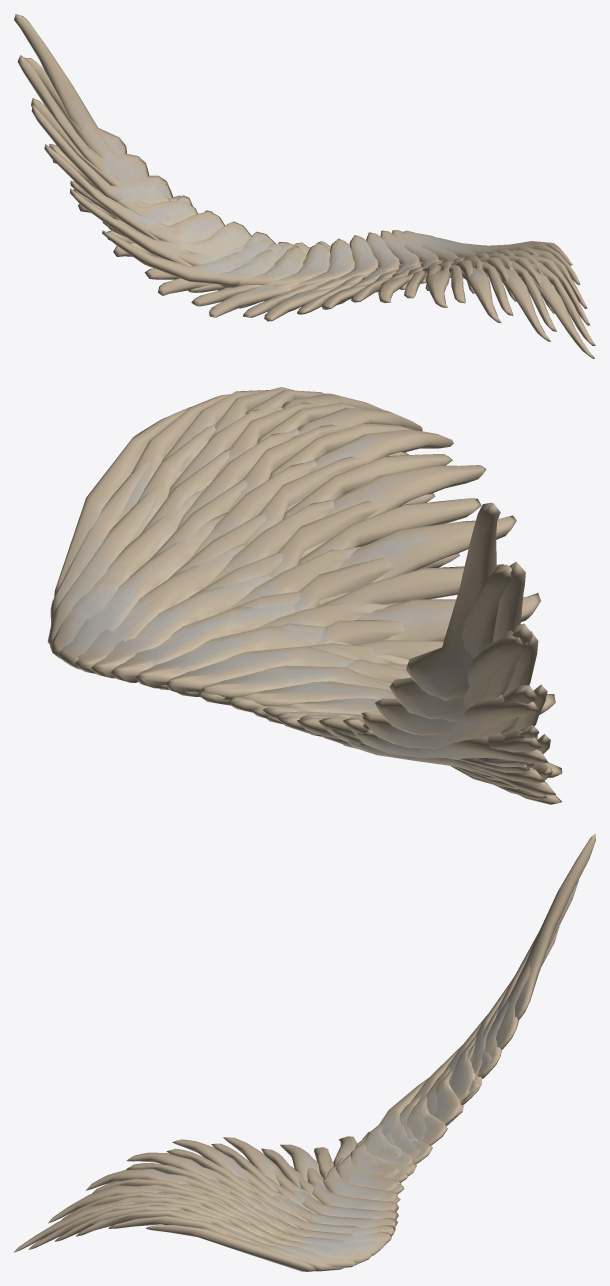
File: leftWing.obj
3 renders of one model, top to bottom at view 1: azimuth 30°, elevation 25°; view 2: azimuth 150°, elevation 25°; view 3: azimuth 270°, elevation 25°, orthographic. The views are drawn at different scales.
Visible parts, largest first — view 1: wing_low_wing_low_0; view 2: wing_low_wing_low_0; view 3: wing_low_wing_low_0.
Part boxes in pixels (bbox=[...]): wing_low_wing_low_0: bbox=[14, 14, 595, 358]; wing_low_wing_low_0: bbox=[47, 387, 562, 804]; wing_low_wing_low_0: bbox=[14, 833, 595, 1271].
Bounding box in the file's own units: 9.79 × 6.08 × 12.15.
